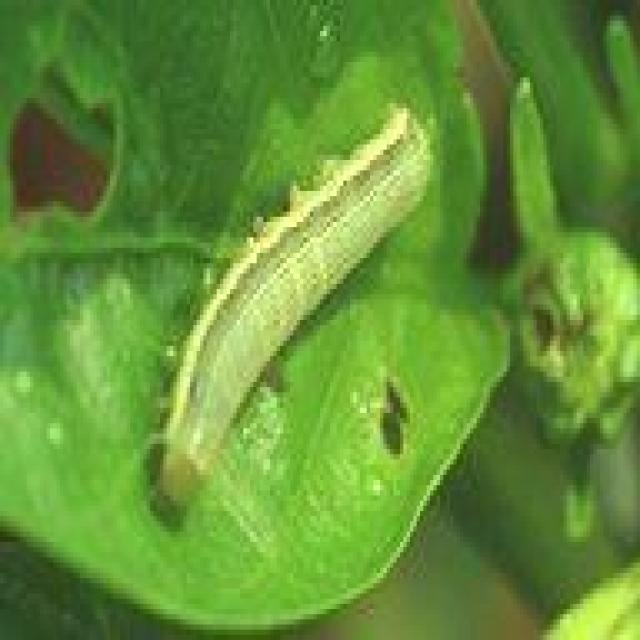BeetArmyWorm-Larva-: (153, 98, 447, 518)
